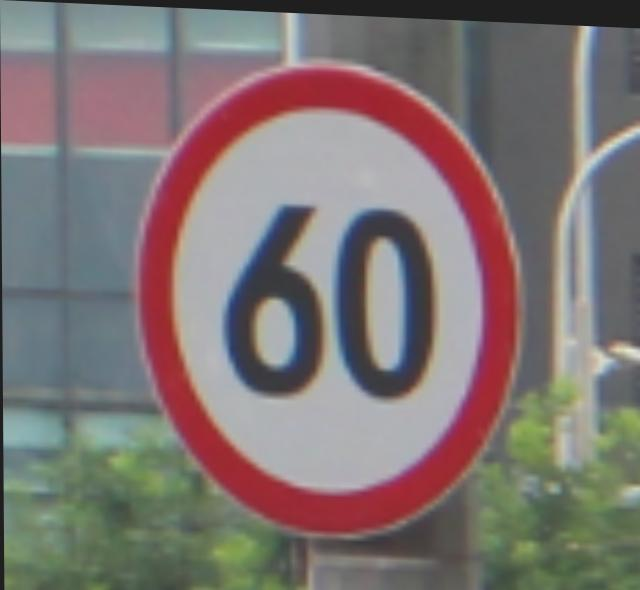limit60: (120, 38, 530, 547)
